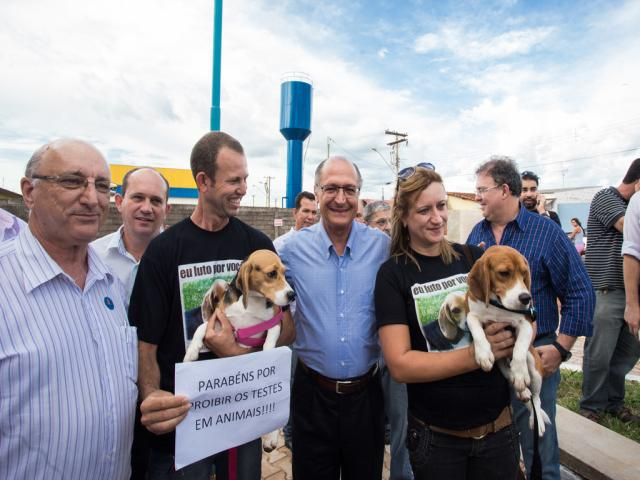Dog: (182, 247, 298, 450), (455, 243, 557, 442), (422, 290, 479, 353), (184, 278, 236, 346)
